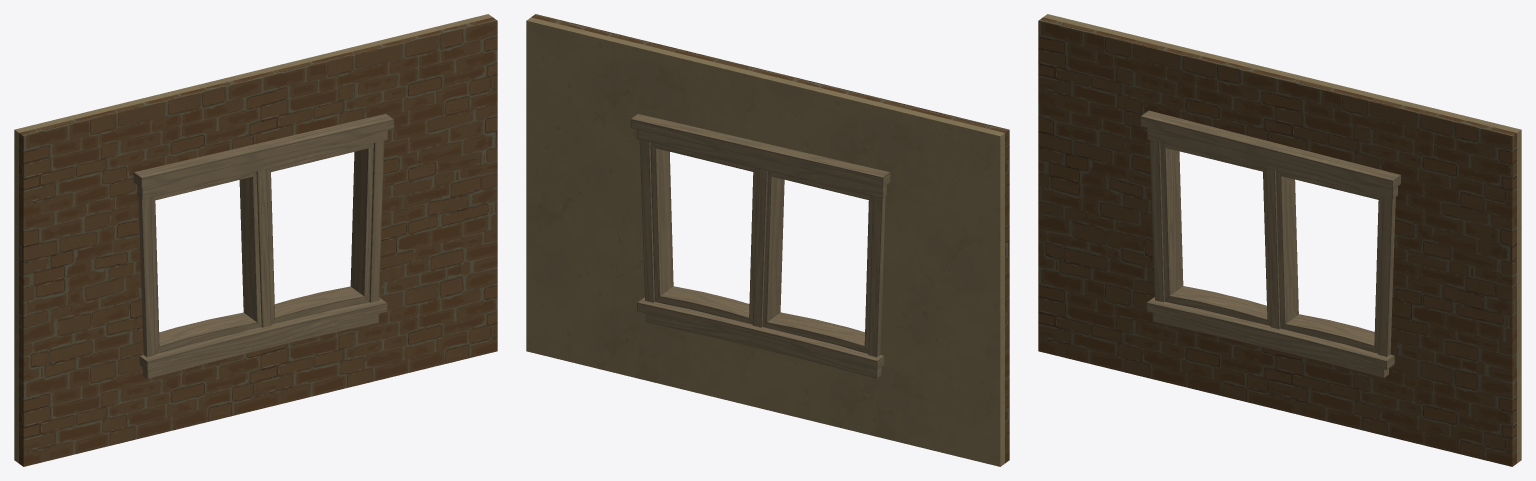
File: SM_building_wall_25.glb
The picture shows the model from 3 angles, left to right: view 1: azimuth 30°, elevation 25°; view 2: azimuth 150°, elevation 25°; view 3: azimuth 330°, elevation 25°; orthographic projection.
Visible parts, largest first — view 1: SM_building_wall_25; view 2: SM_building_wall_25; view 3: SM_building_wall_25.
Part boxes in pixels (x1,y1,x2,y2): SM_building_wall_25: (14,14,497,466); SM_building_wall_25: (526,14,1009,466); SM_building_wall_25: (1038,14,1521,466).
Bounding box in the file's own units: 6 × 4 × 0.5327.
3 materials, 3 textured.
